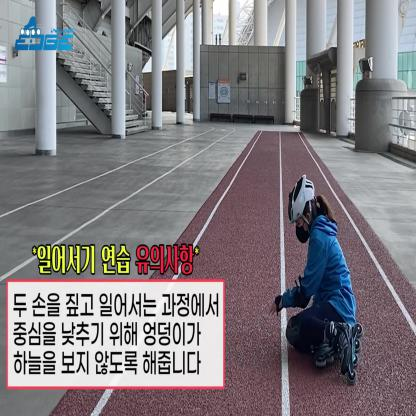Fall_Down: (270, 176, 359, 375)
